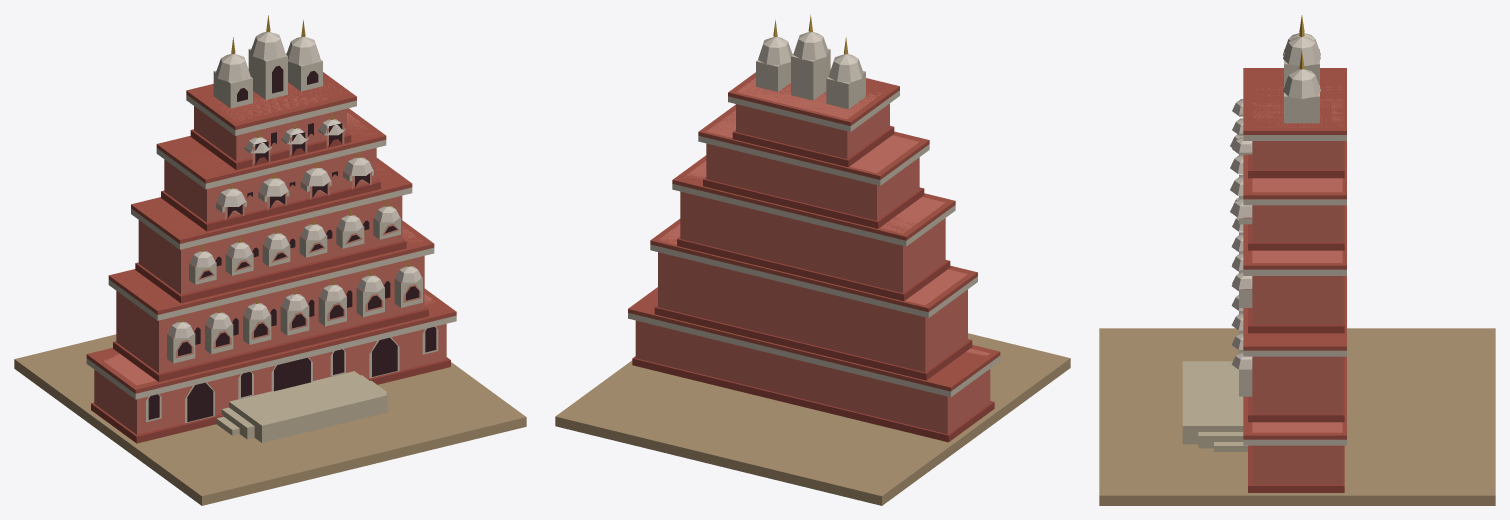
Rendered from hawaMahal.glb.
3 views of the same model, side by side, from view 1: azimuth 30°, elevation 25°; view 2: azimuth 150°, elevation 25°; view 3: azimuth 270°, elevation 25° (orthographic). The views are drawn at different scales.
Parts seen in each view (by area): view 1: hawaMahal; view 2: hawaMahal; view 3: hawaMahal.
Part boxes in pixels (x1,y1,x2,y2): hawaMahal: [14, 15, 526, 505]; hawaMahal: [555, 14, 1070, 505]; hawaMahal: [1099, 15, 1495, 505].
Bounding box in the file's own units: 1.76 × 1.98 × 1.76.
